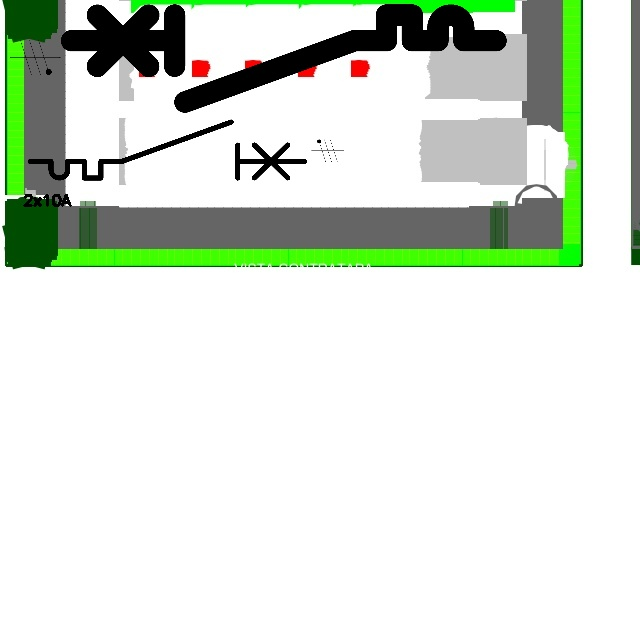interruptor_termomagnetico: (60, 4, 506, 113), (23, 115, 311, 185)
